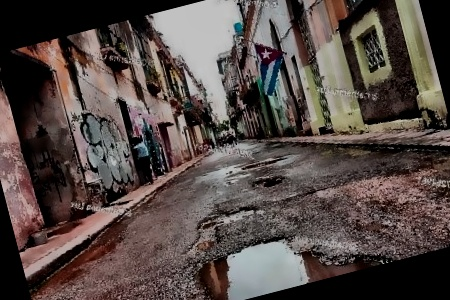pothole: (189, 206, 399, 300), (194, 200, 258, 231), (182, 210, 226, 254), (241, 152, 289, 171), (250, 171, 287, 191)
